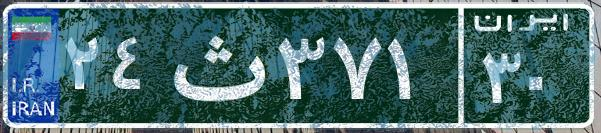0: (525, 38, 570, 115)
1: (385, 28, 445, 110)
2: (57, 26, 110, 107)
3: (273, 28, 330, 110), (475, 38, 525, 113)
4: (110, 28, 158, 105)
7: (330, 28, 385, 110)
ث: (158, 15, 273, 115)
